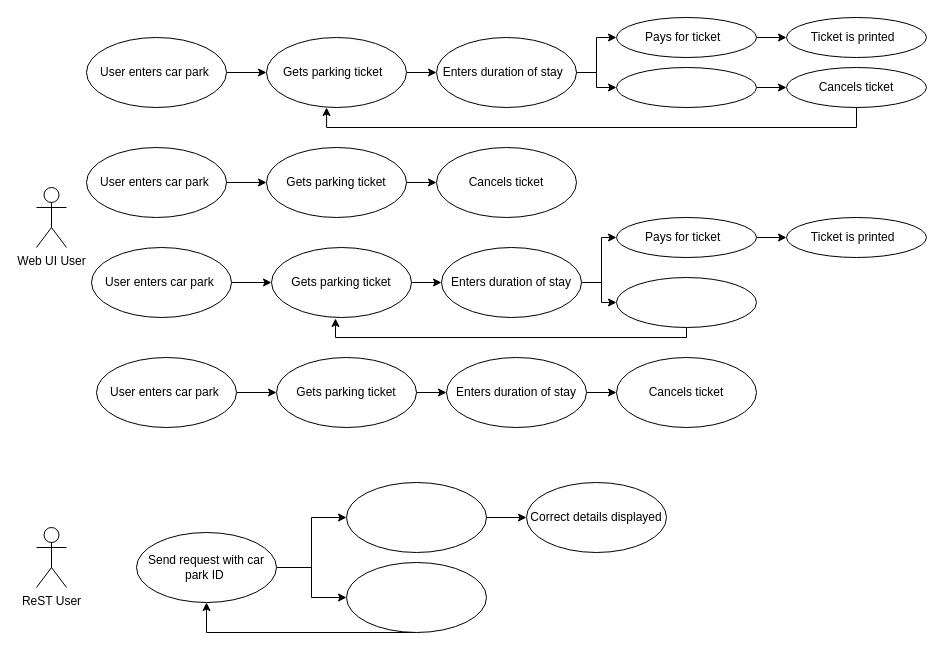
This 944x658 diagram has some shape labels left out. The centre of each missing label's shape, as x and y in pixels:
return item details: point (416, 517)
Transaction not accepted: point (686, 302)
Wrong price returned: point (686, 87)
Wrong/no details returned: point (416, 597)
